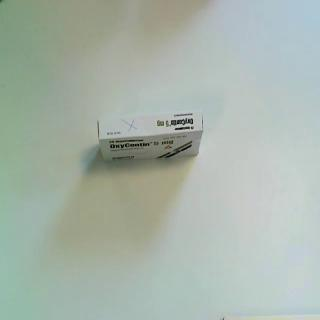oxycontin5mg: (96, 108, 205, 164)
